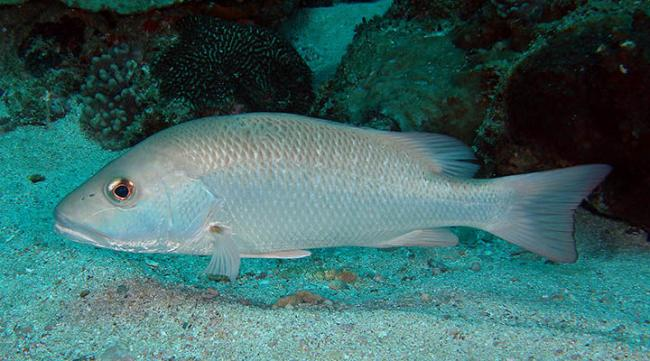fish: (52, 111, 613, 283)
